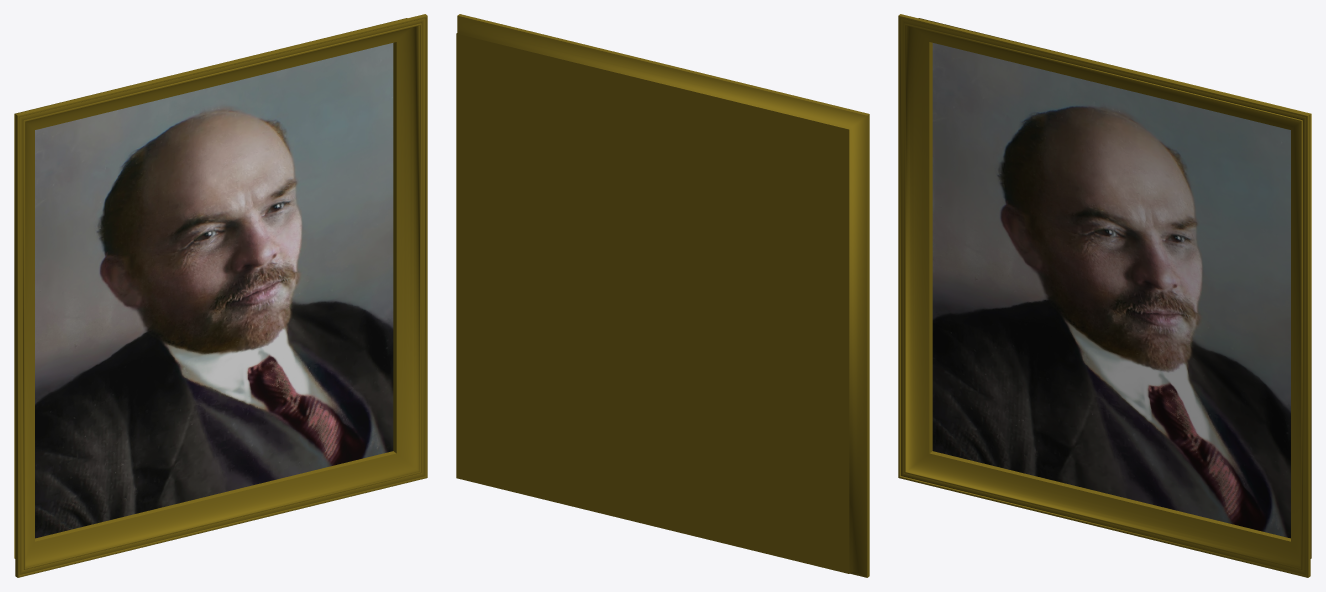
The model's file is portret.fbx.
3 views of the same model, side by side, from view 1: azimuth 30°, elevation 25°; view 2: azimuth 150°, elevation 25°; view 3: azimuth 330°, elevation 25° (orthographic).
Parts seen in each view (by area): view 1: Plane001, Line001; view 2: Line001; view 3: Plane001, Line001.
Part boxes in pixels (x1=…): Plane001: x1=35, y1=43, x2=393, y2=538; Line001: x1=14, y1=14, x2=427, y2=577; Line001: x1=456, y1=14, x2=869, y2=577; Plane001: x1=932, y1=43, x2=1290, y2=538; Line001: x1=898, y1=14, x2=1311, y2=577.
Size of the model in its own units: 114 by 122 by 5.83.
2 materials, 1 textured.
